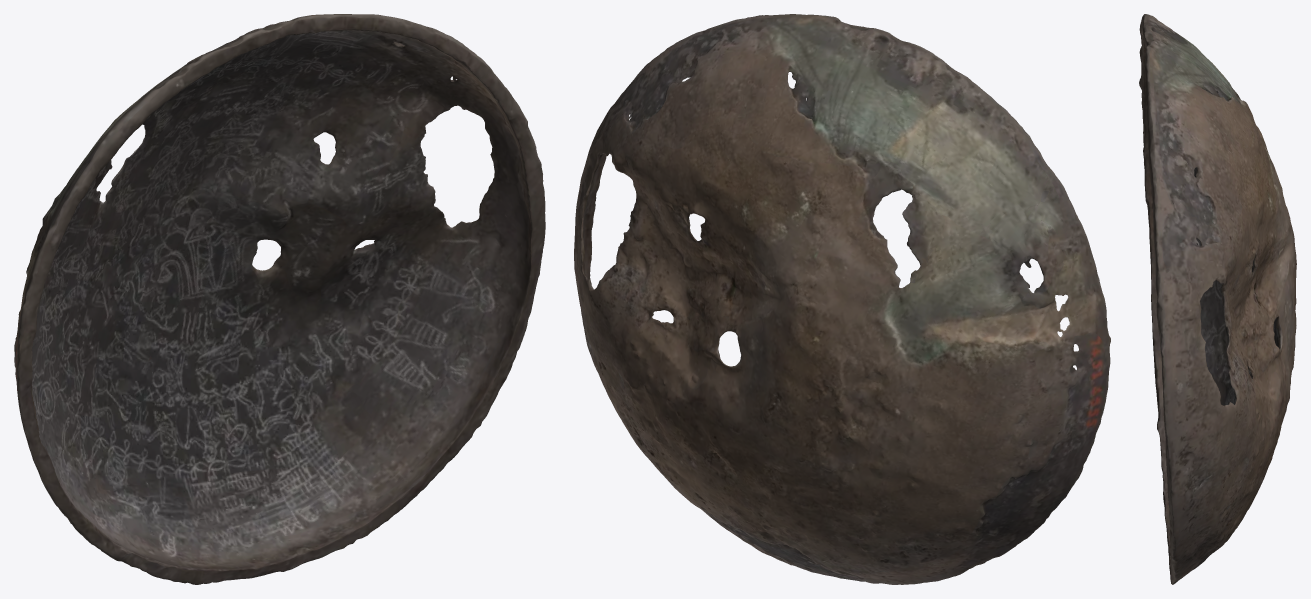
Rendered from preview.glb.
3 views of the same model, side by side, from view 1: azimuth 30°, elevation 25°; view 2: azimuth 150°, elevation 25°; view 3: azimuth 270°, elevation 25° (orthographic). The views are drawn at different scales.
Parts seen in each view (by area): view 1: PHOTS_39134_SilverBowl_n3d; view 2: PHOTS_39134_SilverBowl_n3d; view 3: PHOTS_39134_SilverBowl_n3d.
Boxes of the visible parts, x1,y1,x2,y2 form: PHOTS_39134_SilverBowl_n3d: [14, 14, 545, 584]; PHOTS_39134_SilverBowl_n3d: [574, 14, 1110, 584]; PHOTS_39134_SilverBowl_n3d: [1139, 14, 1296, 584].
Size of the model in its own units: 0.1526 by 0.1524 by 0.0423.
1 material, 1 textured.
